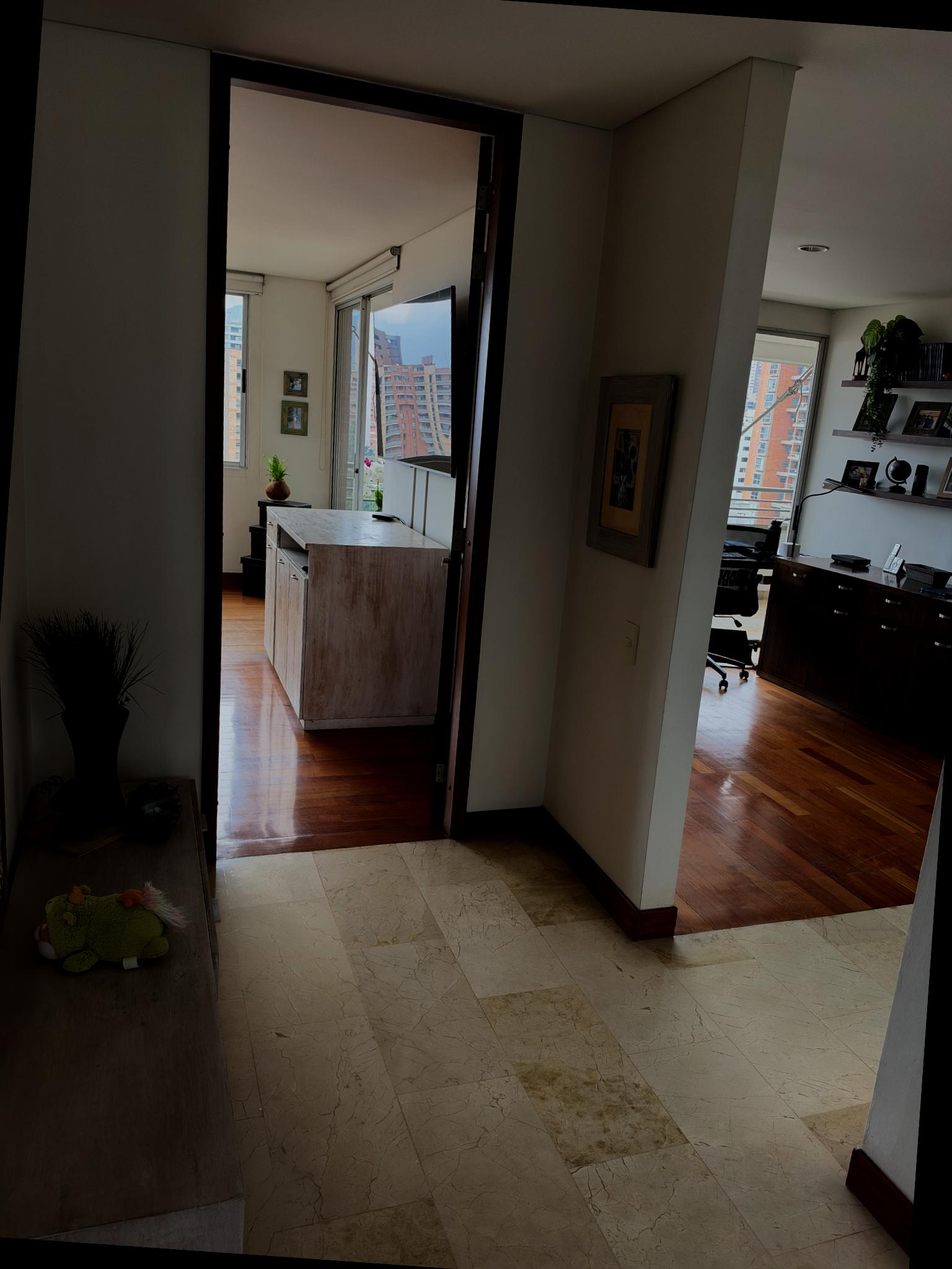peluche_martin: (30, 873, 192, 981)
